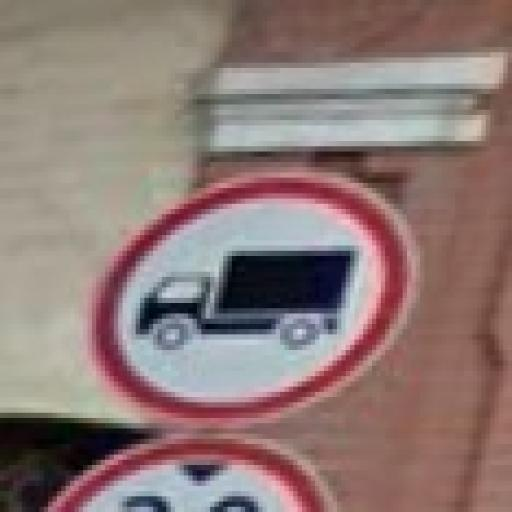traffic_sign: (89, 174, 421, 425)
